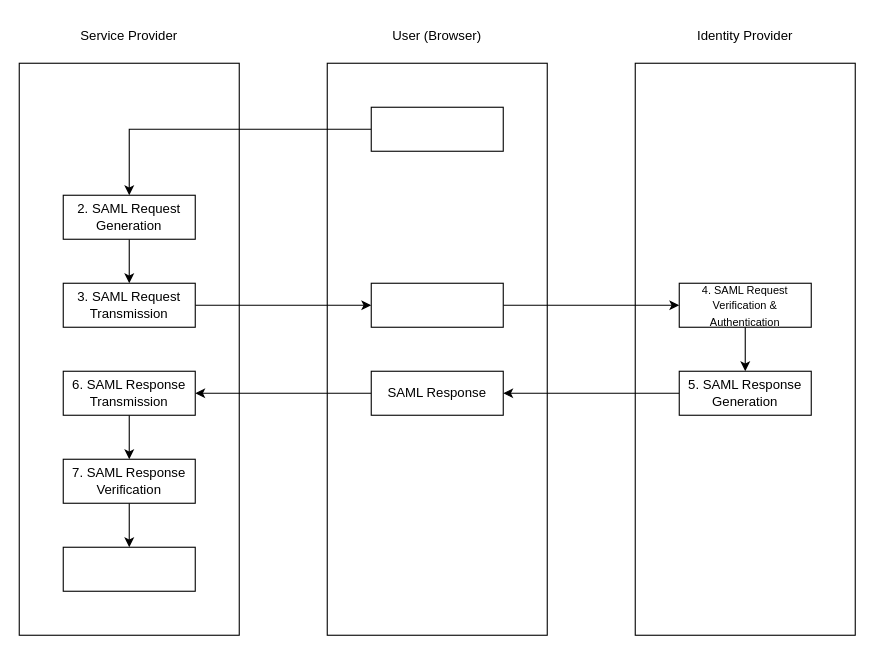
Some shapes in this 875 by 655 pixel diagram are drawn without their labels. Here are the shapes that lost their labels. From the top down, the centre of each, then its label:
At pixel 436 128: "1. Request Resource".
At pixel 436 304: "SAML Request".
At pixel 128 568: "8. Resource Access Grant".
